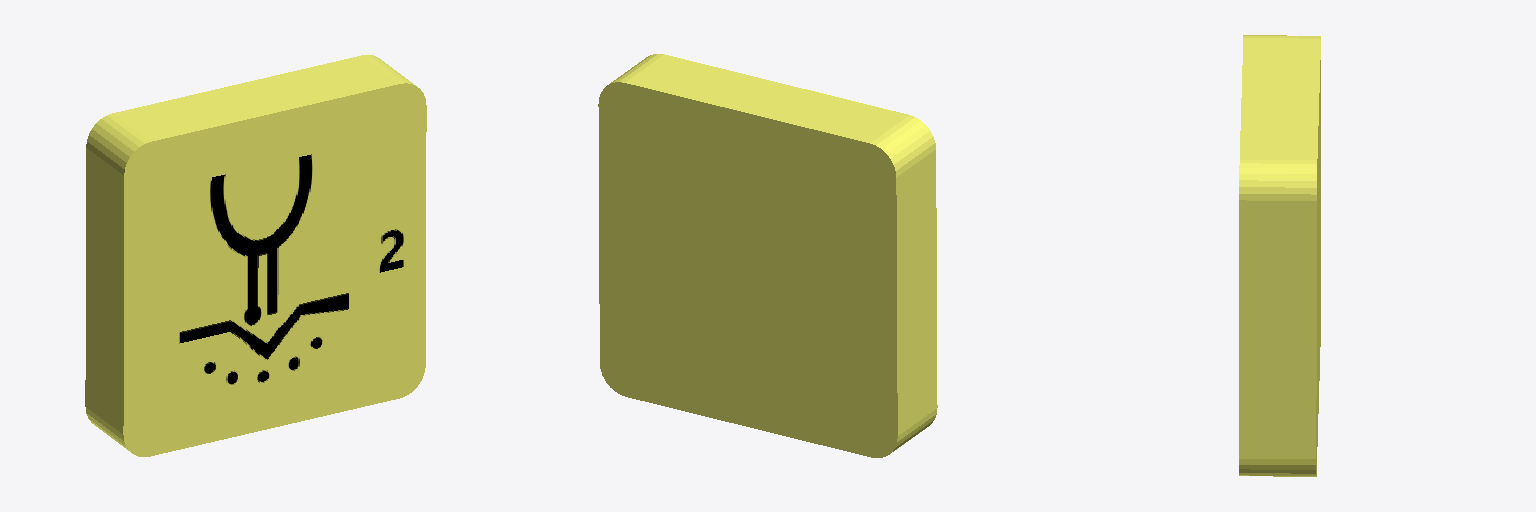
3 renders of one model, left to right at view 1: azimuth 30°, elevation 25°; view 2: azimuth 150°, elevation 25°; view 3: azimuth 270°, elevation 25°, orthographic.
Size of the model in its own units: 5.39 by 5.38 by 1.28.
Materials: 1 (1 with a texture image).